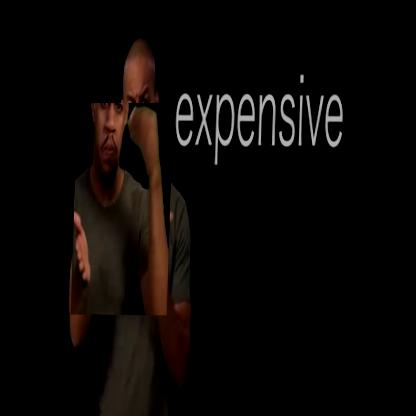Expensive: (73, 103, 174, 316)
